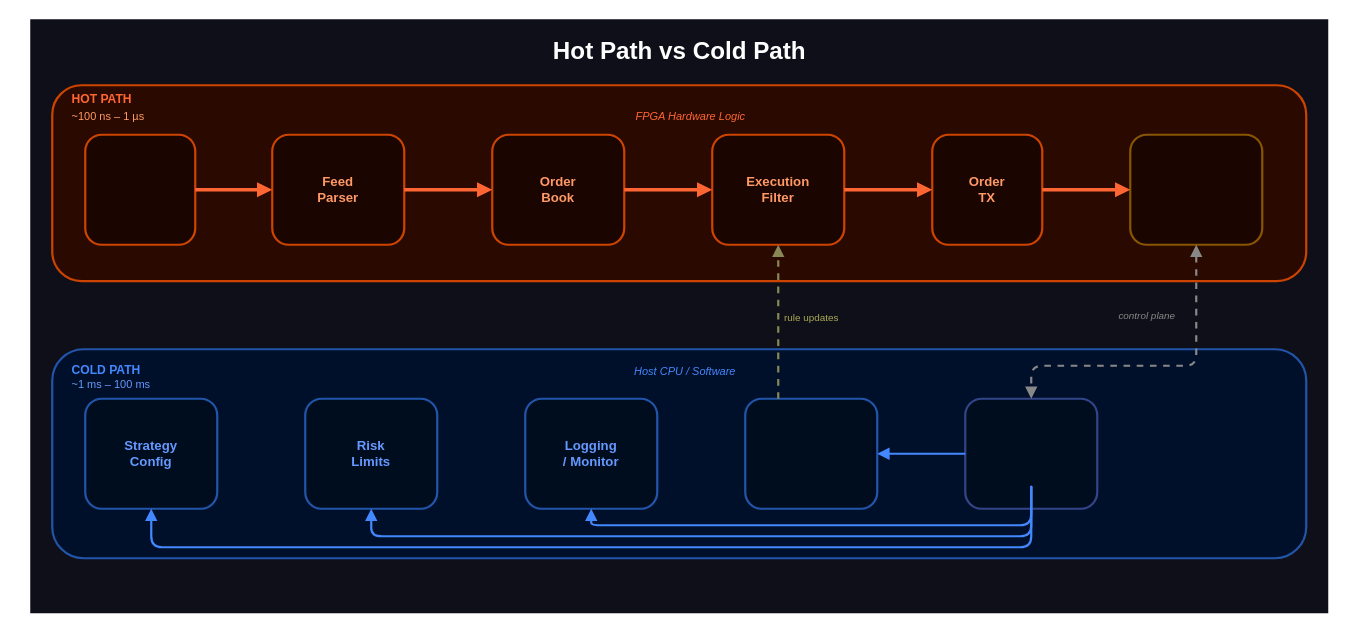
The diagram is 1357 pixels wide and 631 high, and some of its shapes have lost their labels. Each missing label, with the centre of its shape:
"Exchange" goes at point (1196, 189).
"Host Software" goes at point (1031, 453).
"PCIe SW Iface" goes at point (811, 453).
"Wire" goes at point (140, 189).
